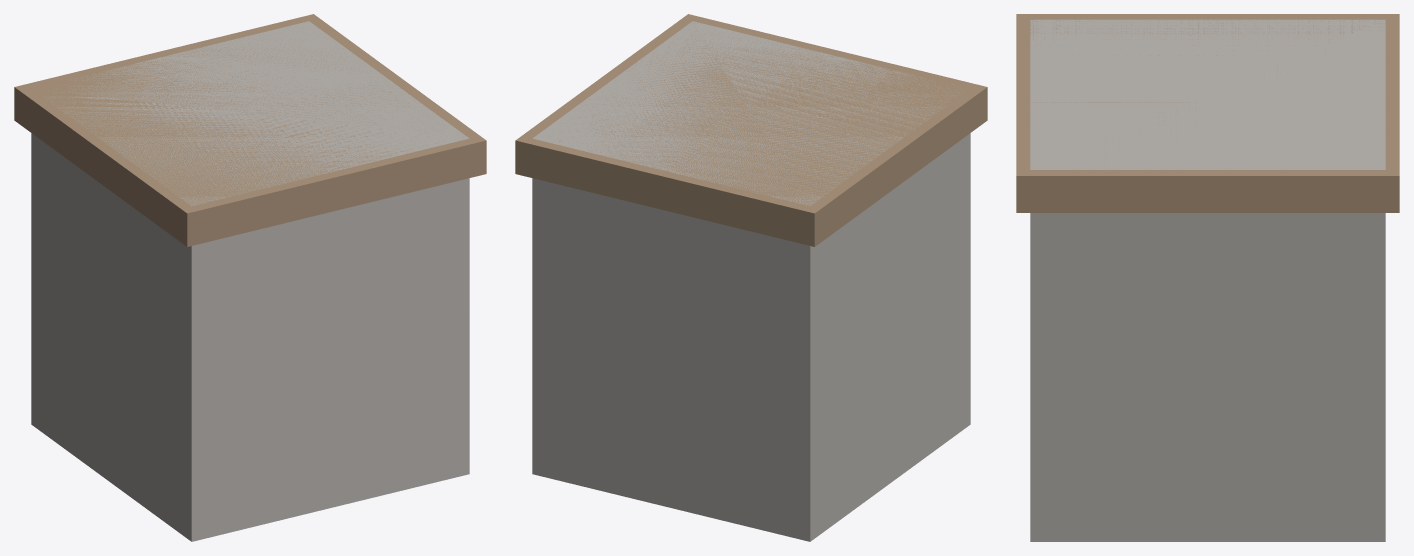
File: tower_mid.glb
3 renders of one model, left to right at view 1: azimuth 30°, elevation 25°; view 2: azimuth 150°, elevation 25°; view 3: azimuth 270°, elevation 25°, orthographic. The views are drawn at different scales.
Parts seen in each view (by area): view 1: TOWER_MID; view 2: TOWER_MID; view 3: TOWER_MID.
Part boxes in pixels (box(x1,y1,x2,y2)): TOWER_MID: box(14, 14, 486, 541); TOWER_MID: box(515, 14, 987, 541); TOWER_MID: box(1016, 14, 1399, 541).
Bounding box in the file's own units: 2.8 × 3 × 2.8.
